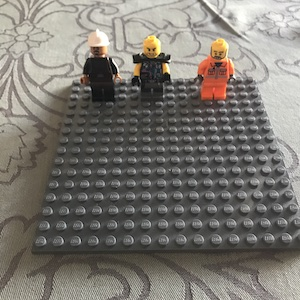Lego: (132, 36, 171, 102), (80, 30, 116, 101), (196, 38, 234, 100)
